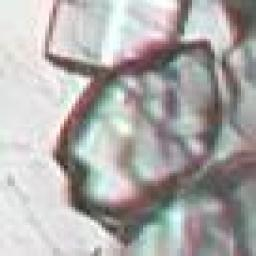crystals: (46, 31, 232, 253)
